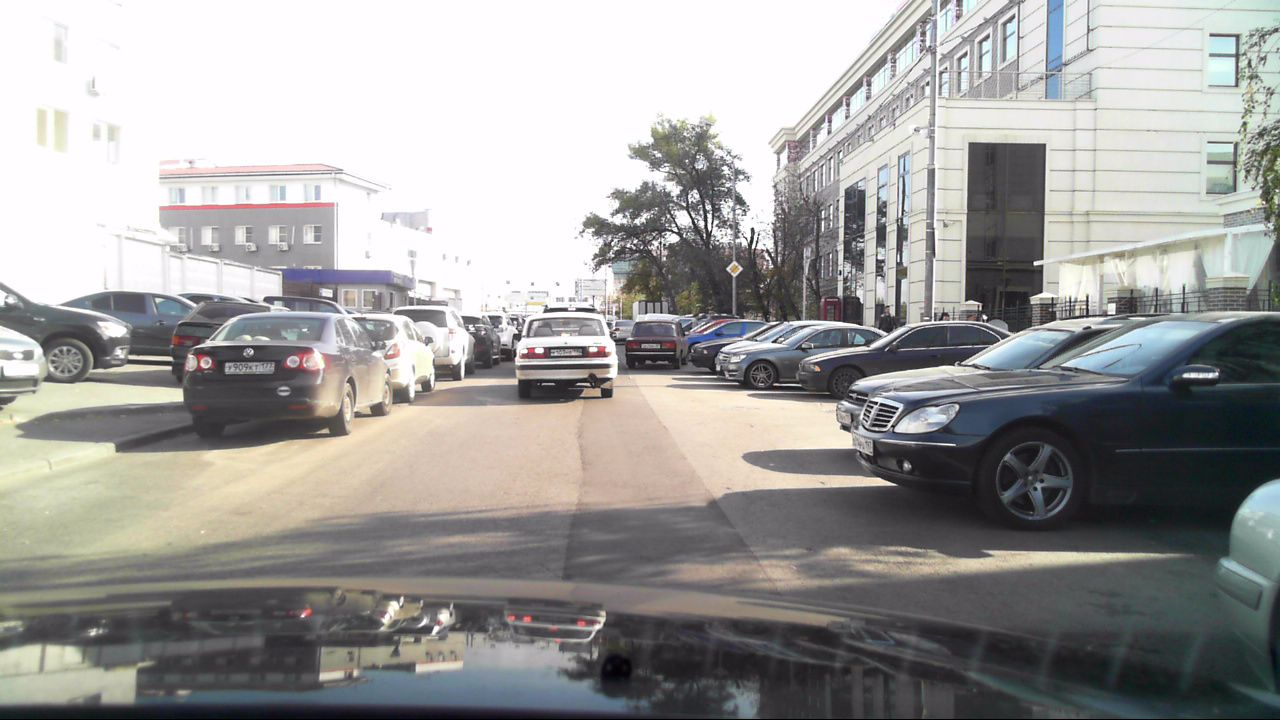main road: (723, 258, 743, 278)
